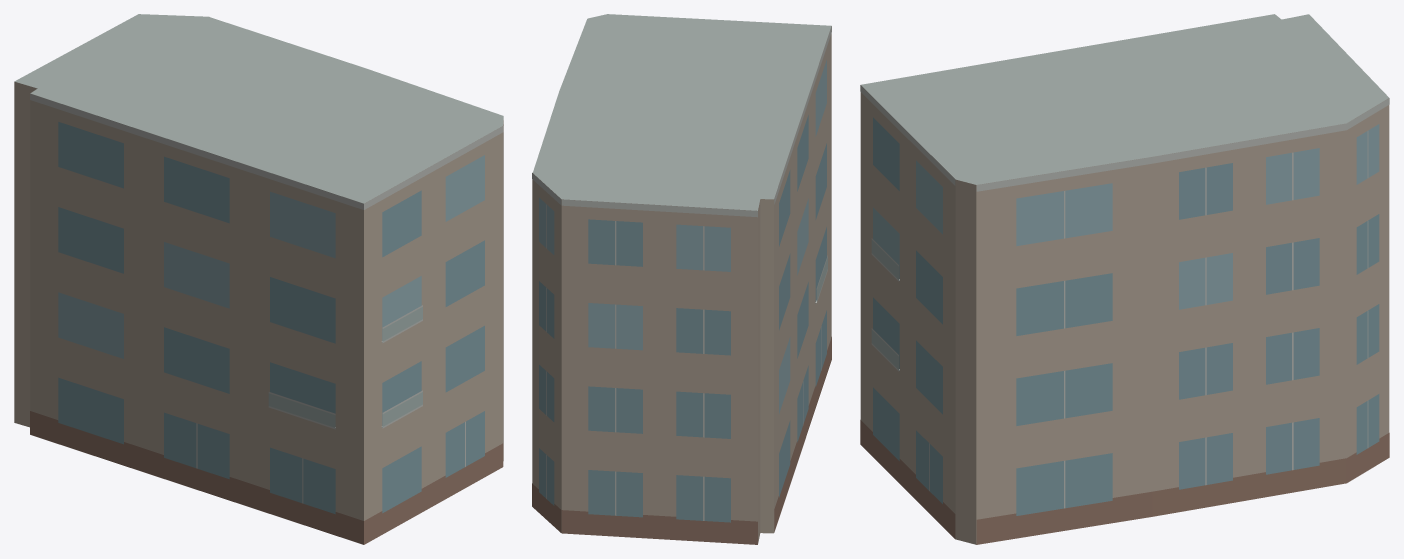
File: survey-upis-32969475.glb
3 views of the same model, side by side, from view 1: azimuth 30°, elevation 25°; view 2: azimuth 150°, elevation 25°; view 3: azimuth 270°, elevation 25° (orthographic). The views are drawn at different scales.
Visible parts, largest first — view 1: survey-upis-32969475.tmp; view 2: survey-upis-32969475.tmp; view 3: survey-upis-32969475.tmp.
Boxes of the visible parts, x1,y1,x2,y2 form: survey-upis-32969475.tmp: (14,14,503,544); survey-upis-32969475.tmp: (532,14,831,544); survey-upis-32969475.tmp: (860,14,1389,544).
Bounding box in the file's own units: 13.05 × 12.8 × 17.05.
